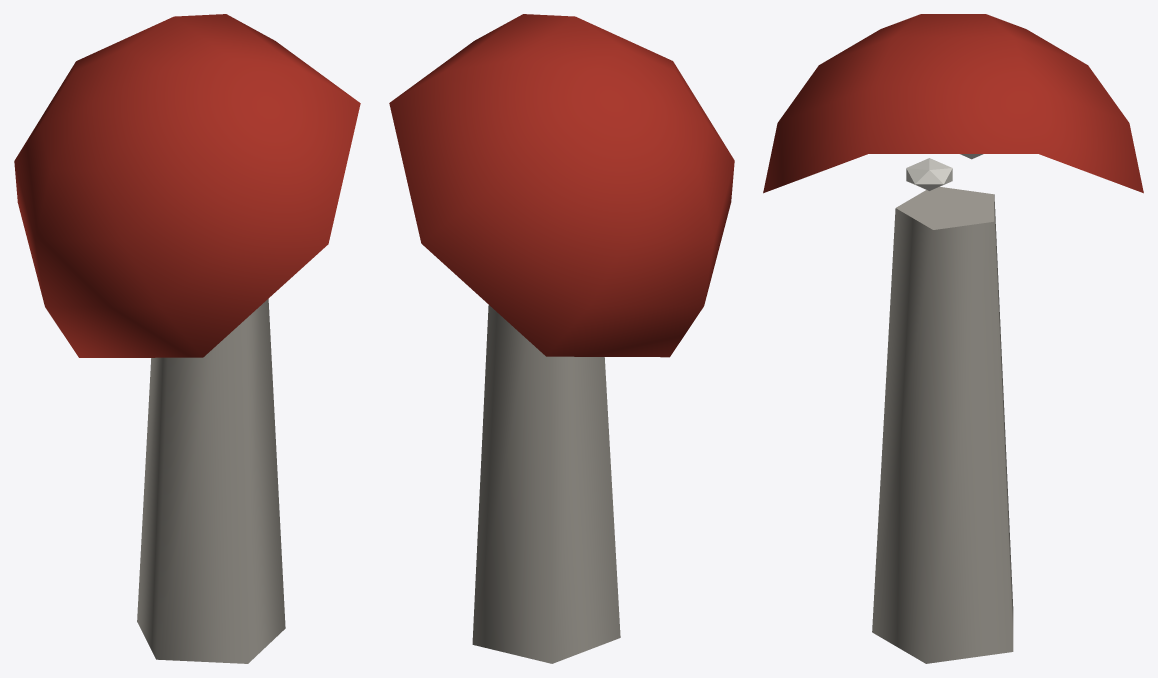
The model's file is mushroom-red.glb.
The picture shows the model from 3 angles, left to right: view 1: azimuth 30°, elevation 25°; view 2: azimuth 150°, elevation 25°; view 3: azimuth 270°, elevation 25°; orthographic projection.
Parts seen in each view (by area): view 1: mushroom-red; view 2: mushroom-red; view 3: mushroom-red.
Part boxes in pixels (x1=…): mushroom-red: x1=14, y1=14, x2=360, y2=663; mushroom-red: x1=389, y1=14, x2=734, y2=663; mushroom-red: x1=763, y1=14, x2=1143, y2=663.
Bounding box in the file's own units: 0.1122 × 0.226 × 0.1314.
